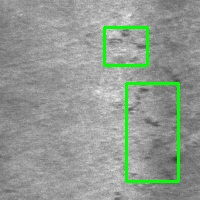rolled-in_scale: (126, 83, 178, 181), (104, 27, 147, 65)
